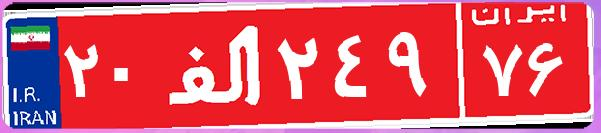0: (110, 28, 158, 105)
2: (273, 28, 330, 110), (57, 26, 110, 107)
4: (330, 28, 385, 110)
6: (525, 38, 570, 115)
7: (475, 38, 525, 113)
9: (385, 28, 445, 110)
الف: (158, 15, 273, 115)
